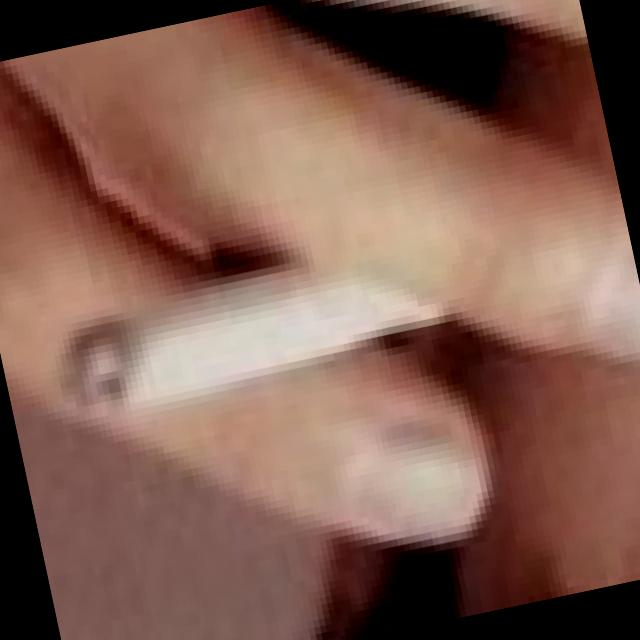smoke: (43, 213, 514, 434)
